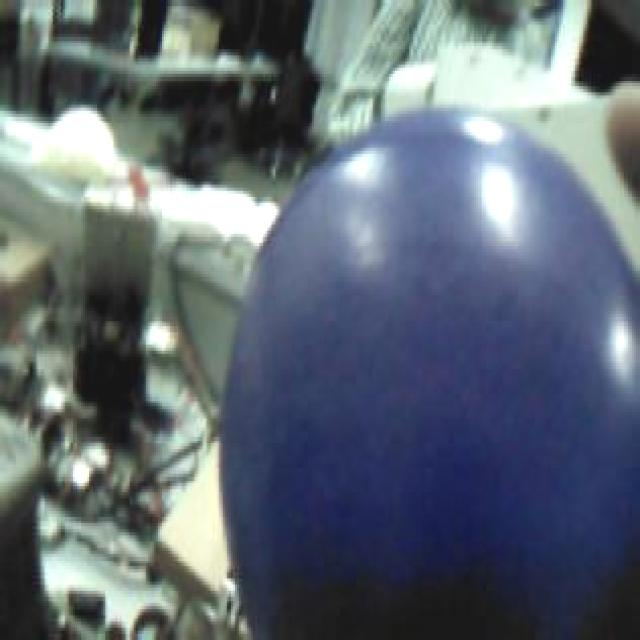BallPurple: (218, 108, 640, 640)
